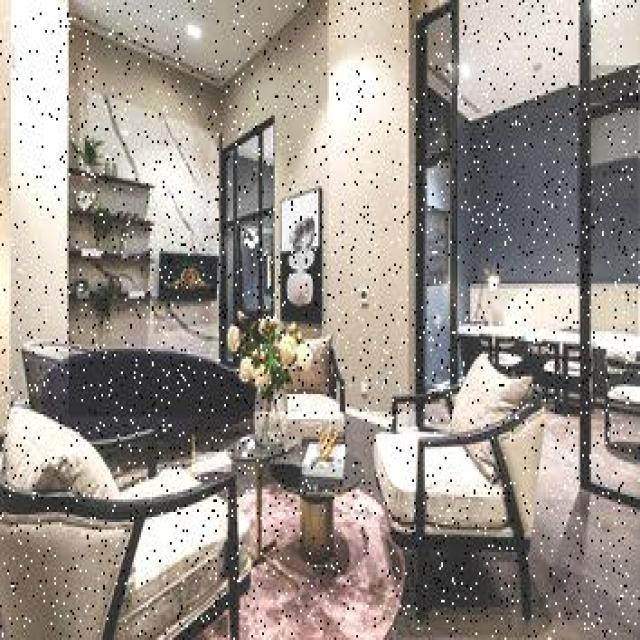Wall: (69, 0, 439, 417), (242, 412, 640, 637), (459, 88, 577, 319), (11, 0, 69, 397), (70, 2, 307, 85), (461, 0, 579, 120), (68, 299, 217, 356), (591, 109, 640, 281), (424, 163, 450, 387), (471, 286, 577, 329), (592, 409, 638, 494), (591, 1, 640, 78), (424, 14, 450, 156), (592, 286, 638, 334), (591, 65, 640, 103), (426, 14, 447, 102), (425, 210, 448, 276), (237, 465, 253, 522), (611, 415, 640, 442), (193, 454, 231, 472), (201, 617, 228, 637), (427, 405, 447, 422)
